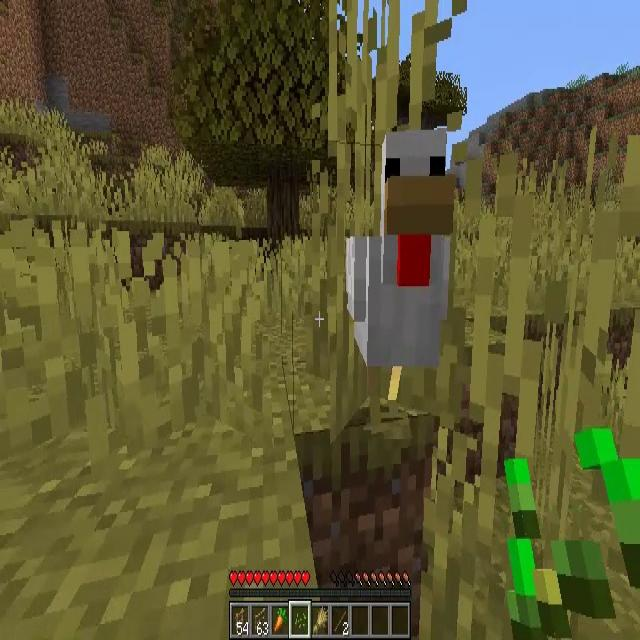duck: (344, 133, 454, 399)
